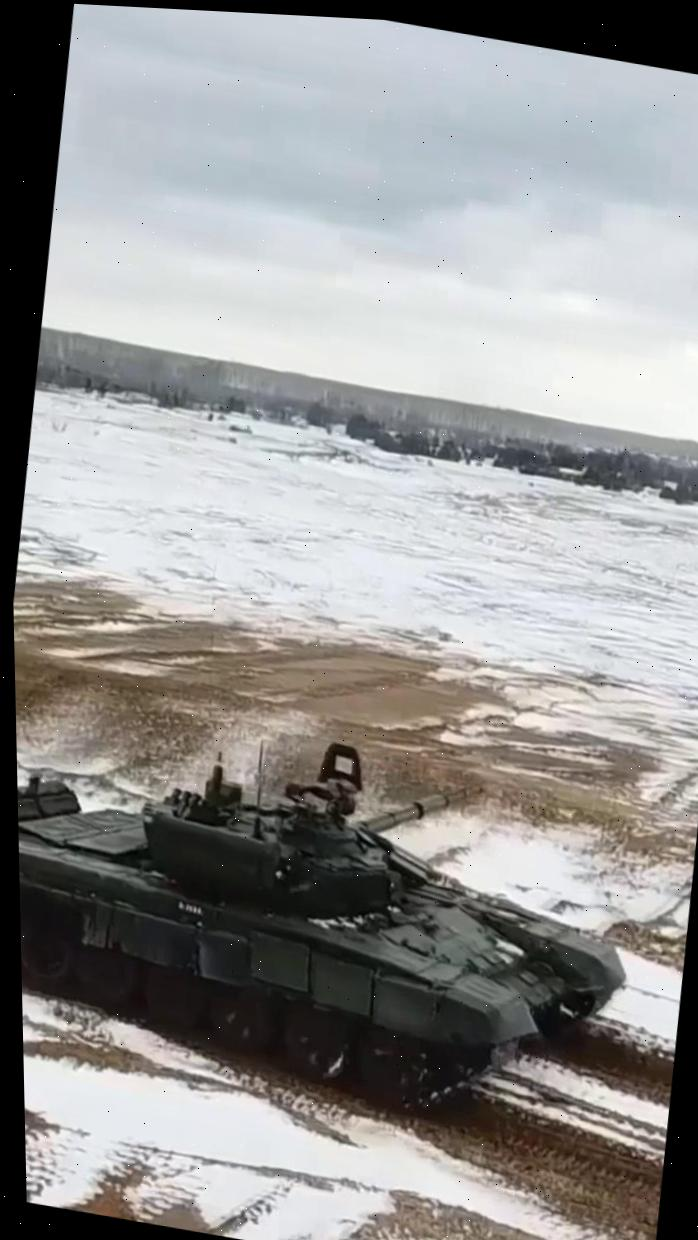tank: (15, 684, 655, 1148)
